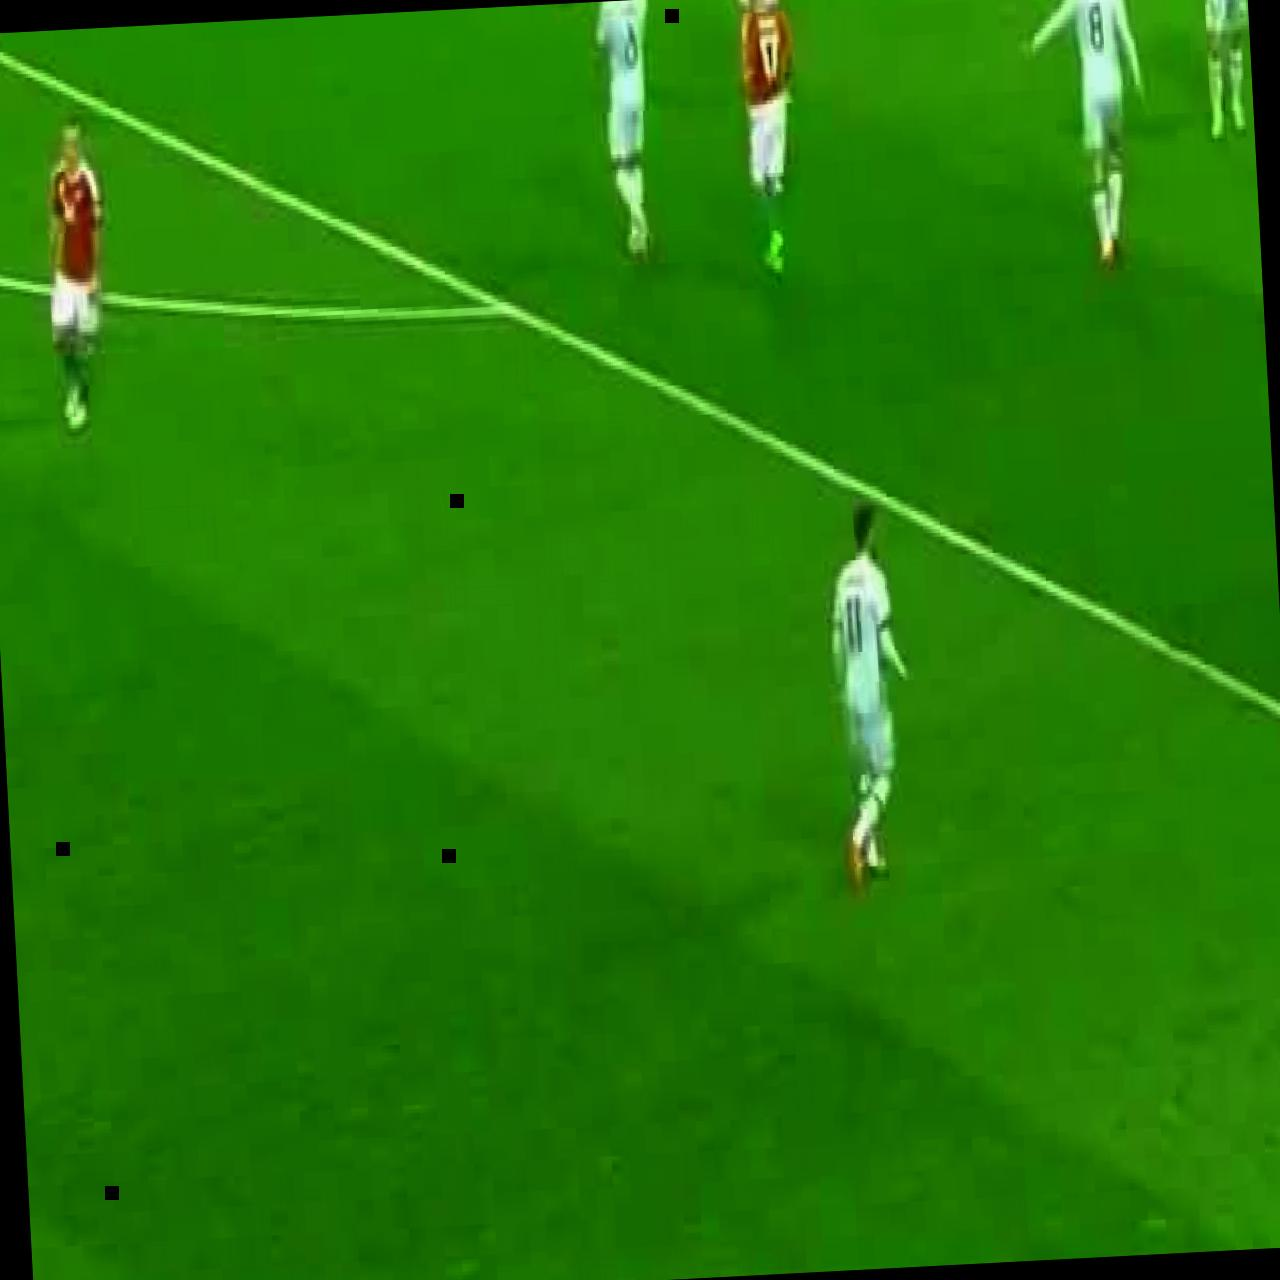football: (1025, 0, 1154, 270), (824, 500, 914, 884), (39, 120, 113, 434), (737, 0, 803, 277), (595, 0, 664, 258), (1192, 0, 1254, 142), (737, 0, 792, 59)
